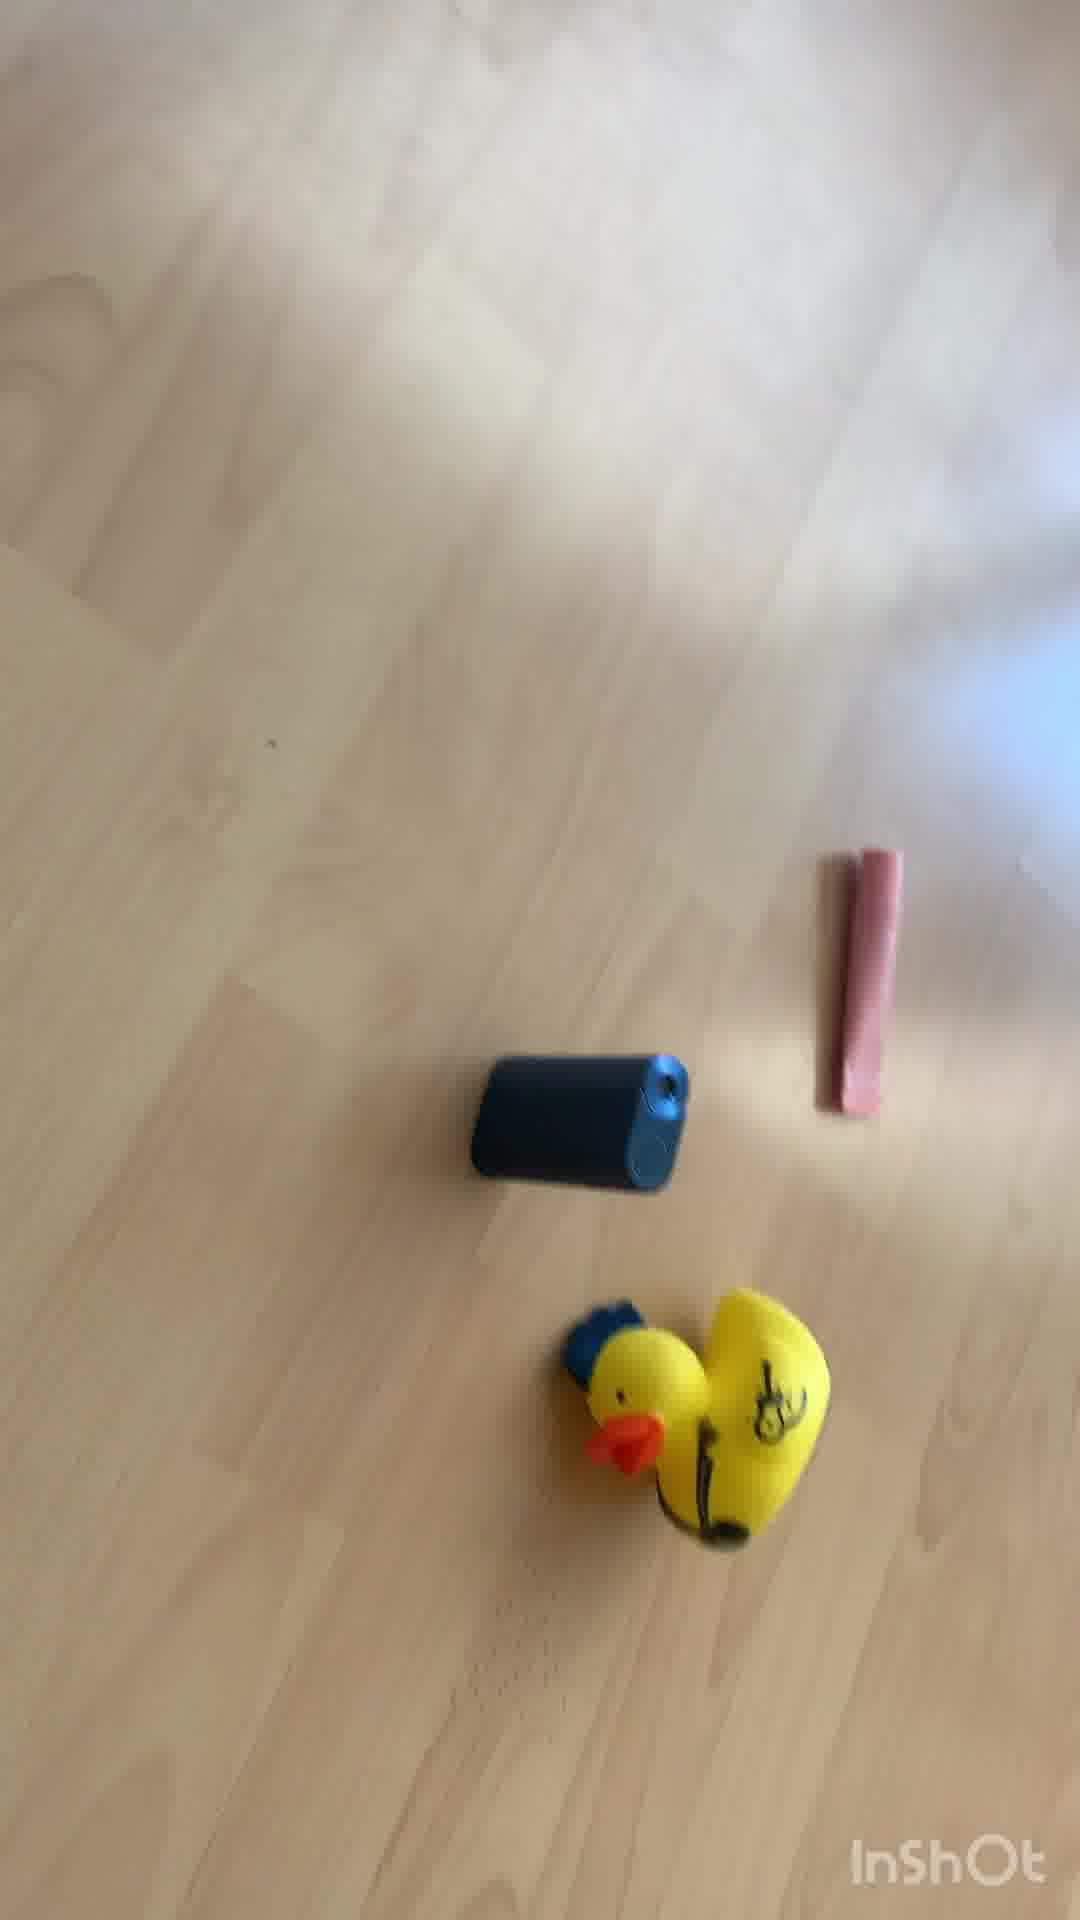duck: (564, 1265, 839, 1564)
glo: (467, 1039, 703, 1200)
lip balm: (828, 831, 920, 1131)
